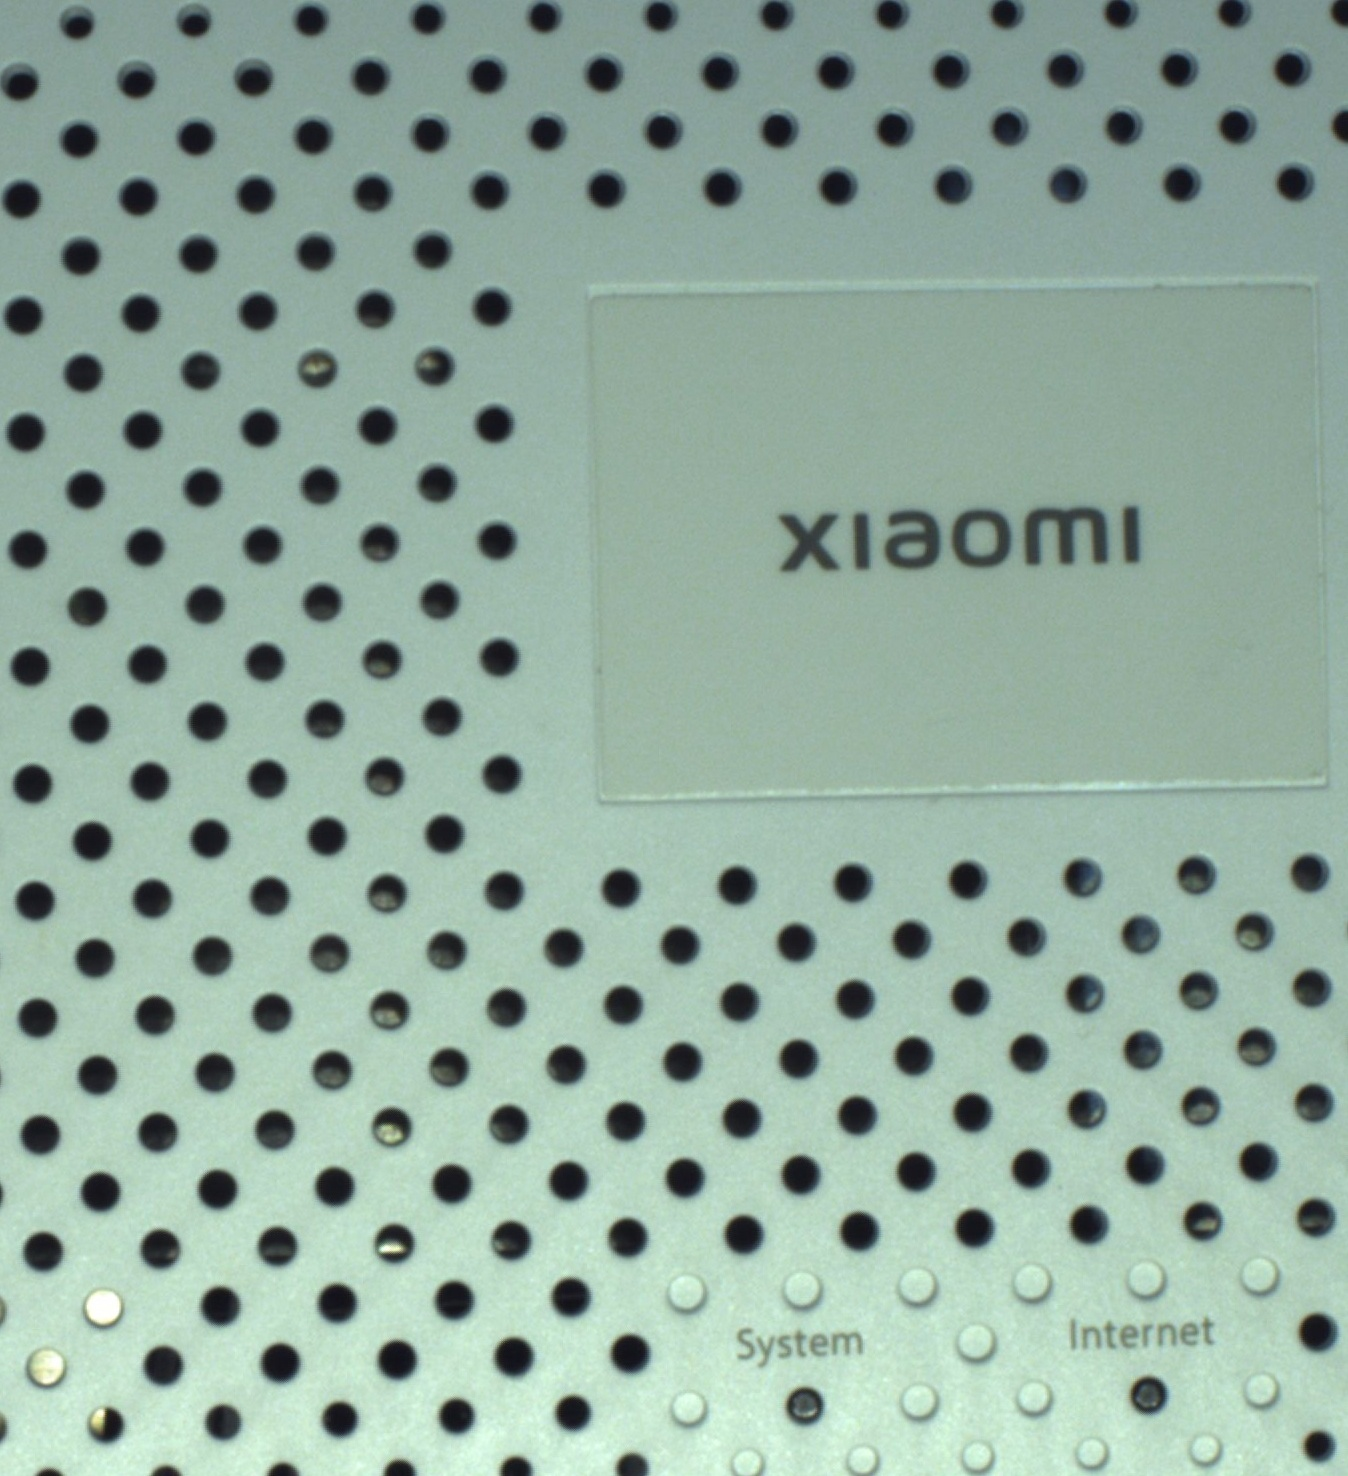MAB_OldUnicom: (756, 498, 1154, 584)
